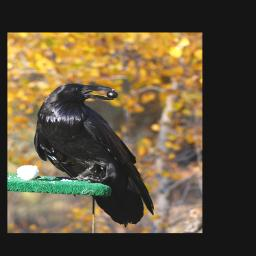Crow: (33, 83, 154, 227)
